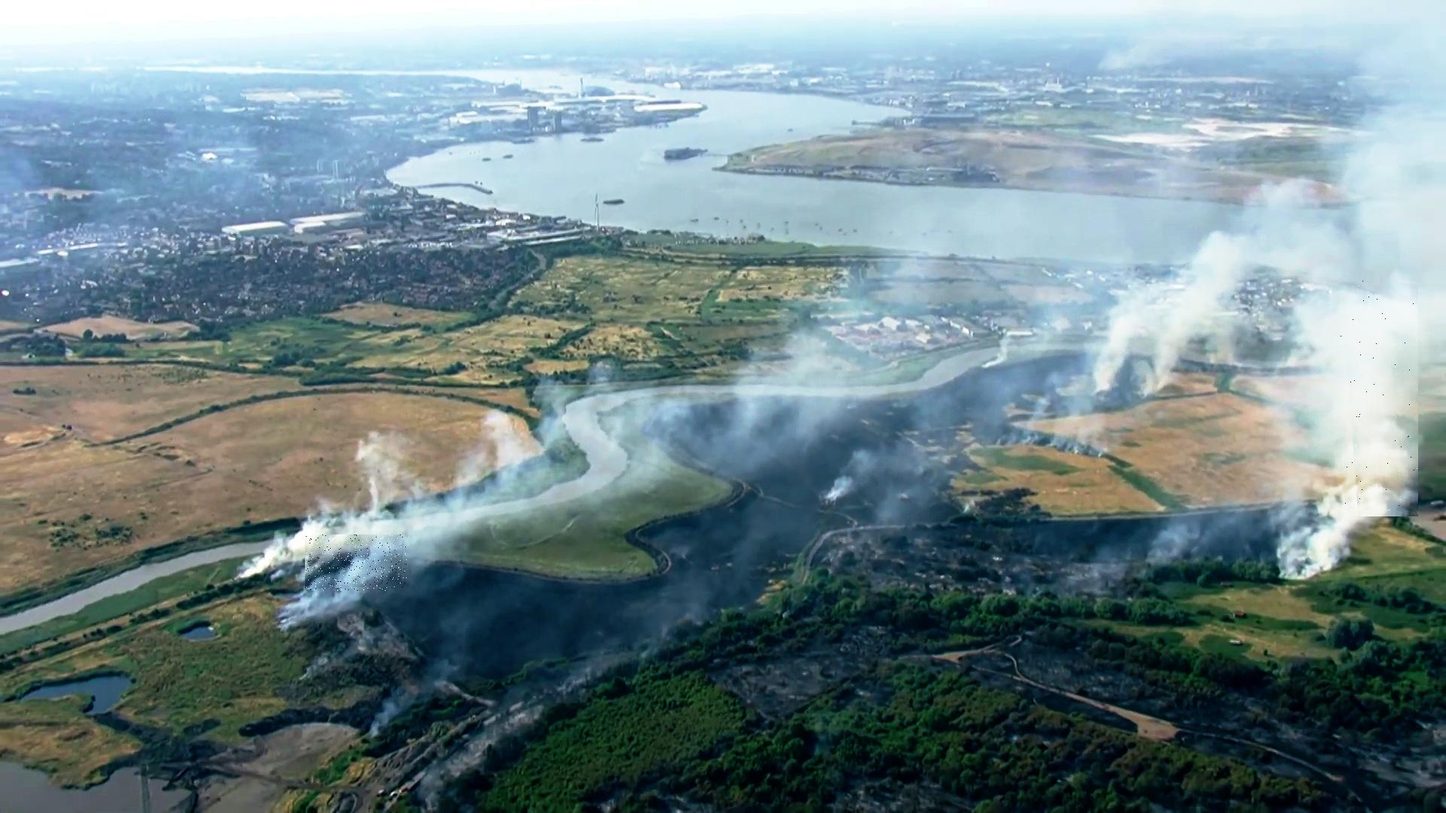smoke: (1341, 277, 1418, 517), (306, 535, 407, 592)
